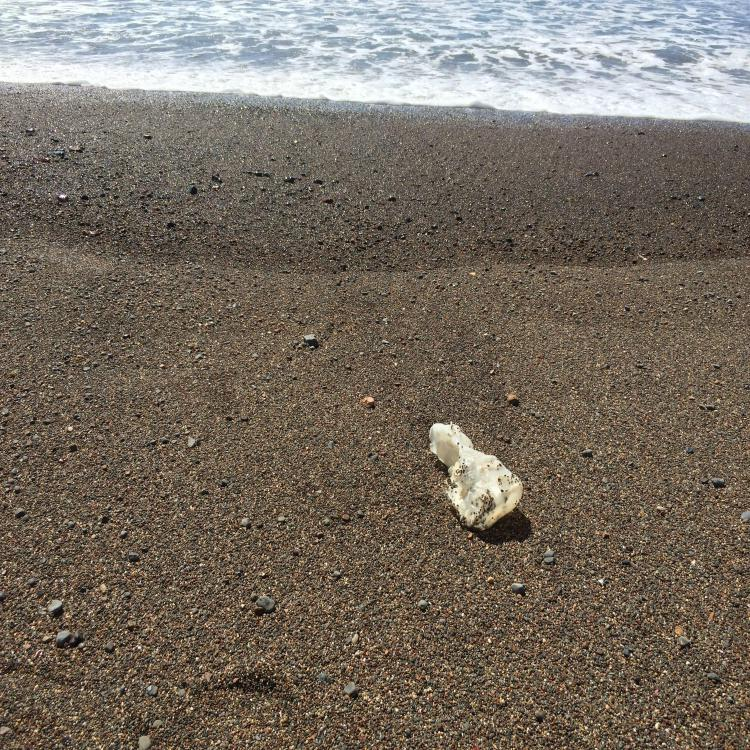Other plastic wrapper: (429, 421, 523, 531)
